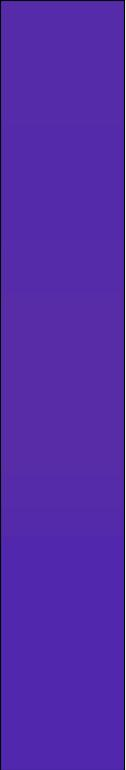safe: (8, 10, 110, 761)
